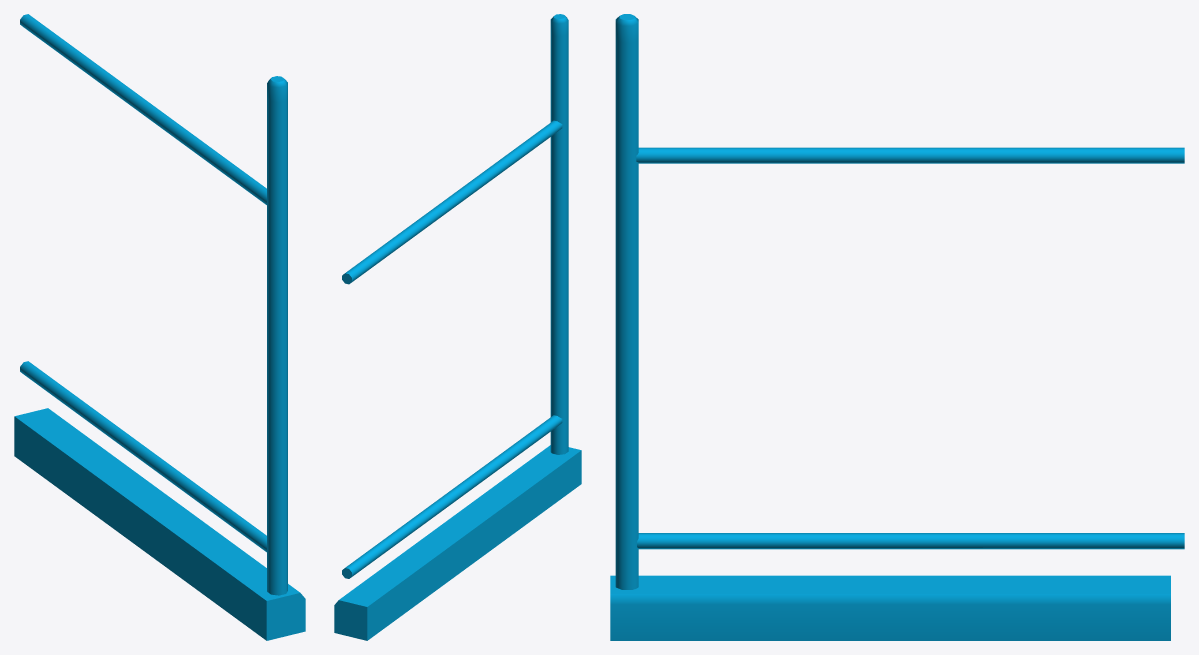
Rendered from Fence_03_Lod1.fbx.
The picture shows the model from 3 angles, left to right: view 1: azimuth 30°, elevation 25°; view 2: azimuth 150°, elevation 25°; view 3: azimuth 270°, elevation 25°; orthographic projection. The views are drawn at different scales.
Parts seen in each view (by area): view 1: Fence_03_Lod1; view 2: Fence_03_Lod1; view 3: Fence_03_Lod1.
Boxes of the visible parts, bbox=[...] form: Fence_03_Lod1: bbox=[14, 14, 305, 640]; Fence_03_Lod1: bbox=[334, 14, 581, 640]; Fence_03_Lod1: bbox=[610, 14, 1184, 640].
Bounding box in the file's own units: 26.62 × 362 × 307.
